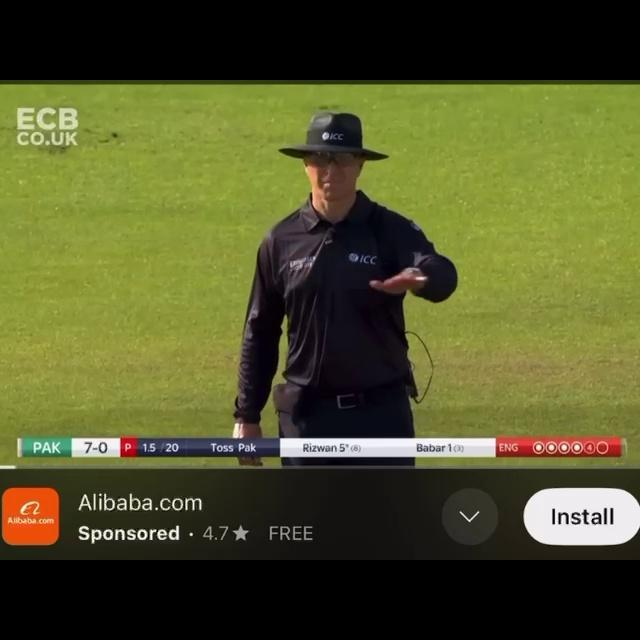umpire: (203, 100, 493, 439)
